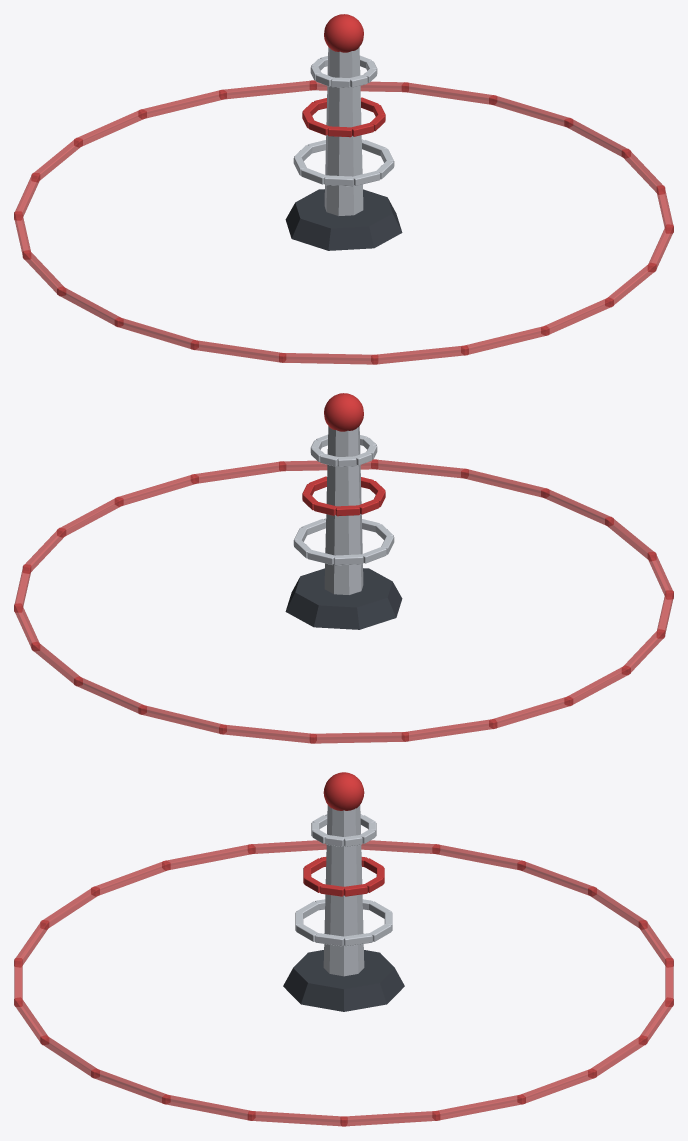
File: steel_lockdown.glb
The picture shows the model from 3 angles, top to bottom: view 1: azimuth 30°, elevation 25°; view 2: azimuth 150°, elevation 25°; view 3: azimuth 270°, elevation 25°; orthographic projection.
Visible parts, largest first — view 1: spine, base, core, lock_radius_7, lock_radius_17, lock_radius_6, lock_radius_8, lock_radius_19, lock_radius_5, lock_radius_16, lock_radius_9, lock_radius_20 (+9 smaller); view 2: spine, base, core, lock_radius_14, lock_radius_4, lock_radius_15, lock_radius_13, lock_radius_2, lock_radius_16, lock_radius_5, lock_radius_12, lock_radius_1 (+9 smaller); view 3: spine, base, core, lock_radius_21, lock_radius_0, lock_radius_9, lock_radius_12, lock_radius_1, lock_radius_20, lock_radius_2, lock_radius_8, lock_radius_13 (+11 smaller).
Part boxes in pixels (<box>): spine: <box>324,47,363,215</box>; base: <box>285,189,402,250</box>; core: <box>324,14,363,52</box>; lock_radius_7: <box>279,353,377,364</box>; lock_radius_17: <box>219,80,316,99</box>; lock_radius_6: <box>371,345,468,364</box>; lock_radius_8: <box>190,340,285,362</box>; lock_radius_19: <box>402,82,496,104</box>; lock_radius_5: <box>461,326,549,355</box>; lock_radius_16: <box>138,89,226,119</box>; lock_radius_9: <box>114,317,198,350</box>; lock_radius_20: <box>489,95,572,127</box>; spine: <box>324,426,363,594</box>; base: <box>285,568,402,629</box>; core: <box>324,393,363,431</box>; lock_radius_14: <box>310,732,408,743</box>; lock_radius_4: <box>371,459,468,478</box>; lock_radius_15: <box>219,724,316,743</box>; lock_radius_13: <box>402,719,497,741</box>; lock_radius_2: <box>191,461,285,483</box>; lock_radius_16: <box>138,704,226,734</box>; lock_radius_5: <box>461,468,549,498</box>; lock_radius_12: <box>489,696,573,729</box>; lock_radius_1: <box>115,474,198,506</box>; spine: <box>323,805,364,976</box>; base: <box>283,950,404,1011</box>; core: <box>323,772,364,810</box>; lock_radius_21: <box>340,1111,439,1126</box>; lock_radius_0: <box>248,1111,347,1126</box>; lock_radius_9: <box>162,844,255,870</box>; lock_radius_12: <box>432,844,525,870</box>; lock_radius_1: <box>162,1094,255,1120</box>; lock_radius_20: <box>432,1094,525,1120</box>; lock_radius_2: <box>91,1068,170,1104</box>; lock_radius_8: <box>91,860,170,896</box>; lock_radius_13: <box>517,860,596,896</box>.
Bounding box in the file's own units: 3.28 × 1.15 × 3.24.
